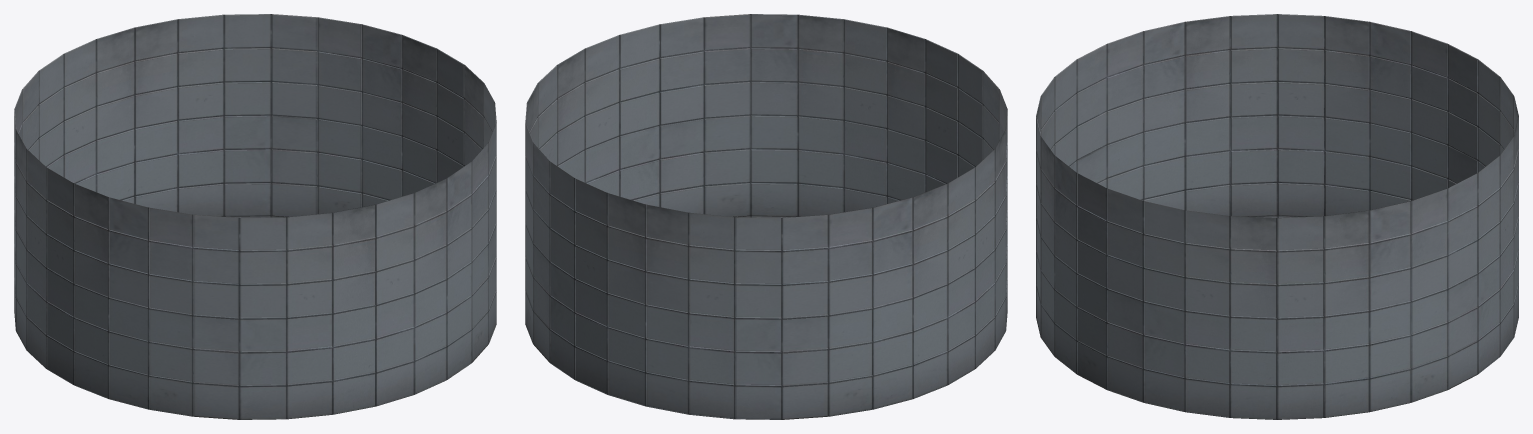
The model's file is batch.obj.
3 renders of one model, left to right at view 1: azimuth 30°, elevation 25°; view 2: azimuth 150°, elevation 25°; view 3: azimuth 270°, elevation 25°, orthographic.
Visible parts, largest first — view 1: tiles_v2; view 2: tiles_v2; view 3: tiles_v2.
Part boxes in pixels (left/top/right/bottom): tiles_v2: left=14, top=14, right=496, bottom=419; tiles_v2: left=525, top=14, right=1007, bottom=419; tiles_v2: left=1036, top=14, right=1518, bottom=419.
Size of the model in its own units: 10389 by 4800 by 10389.
Materials: 1 (1 with a texture image).
